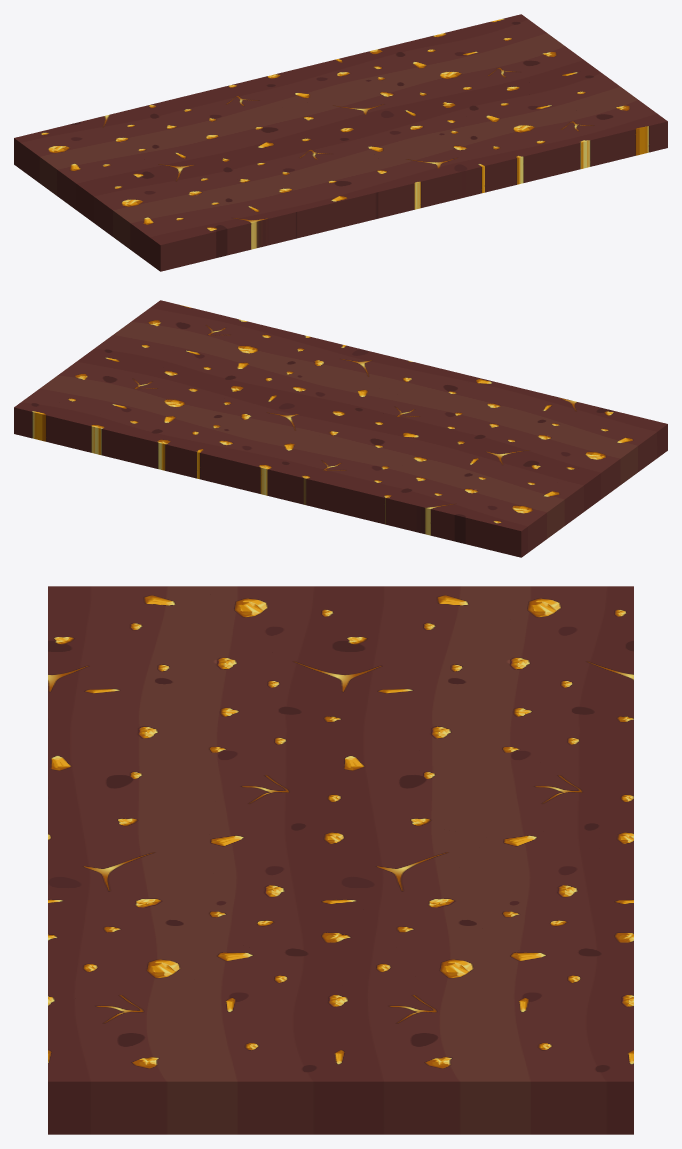
The model's file is Dirt.fbx.
3 views of the same model, one above another, from view 1: azimuth 30°, elevation 25°; view 2: azimuth 150°, elevation 25°; view 3: azimuth 270°, elevation 25° (orthographic). The views are drawn at different scales.
Visible parts, largest first — view 1: Plane.739, Plane.600, Plane.757, Plane.618, Plane.601, Plane.740, Plane.742, Plane.603, Plane.590, Plane.729, Plane.733, Plane.765 (+36 smaller); view 2: Plane.571, Plane.711, Plane.567, Plane.707, Plane.565, Plane.705, Plane.706, Plane.566, Plane.709, Plane.708, Plane.568, Plane.715 (+30 smaller); view 3: Plane.565, Plane.588, Plane.645, Plane.628, Plane.606, Plane.564, Plane.570, Plane.584, Plane.580, Plane.648, Plane.603, Plane.787 (+206 smaller).
Boxes of the visible parts, bbox=[...] form: Plane.739: bbox=[153, 234, 201, 271]; Plane.600: bbox=[408, 172, 455, 209]; Plane.757: bbox=[345, 186, 387, 224]; Plane.618: bbox=[599, 124, 641, 162]; Plane.601: bbox=[526, 144, 565, 181]; Plane.740: bbox=[273, 206, 311, 243]; Plane.742: bbox=[375, 174, 414, 216]; Plane.603: bbox=[629, 115, 667, 154]; Plane.590: bbox=[475, 156, 506, 194]; Plane.729: bbox=[221, 218, 252, 256]; Plane.733: bbox=[89, 190, 123, 232]; Plane.765: bbox=[74, 178, 112, 219]; Plane.571: bbox=[102, 422, 145, 464]; Plane.711: bbox=[356, 484, 399, 526]; Plane.567: bbox=[71, 409, 119, 455]; Plane.707: bbox=[325, 471, 373, 517]; Plane.565: bbox=[14, 395, 61, 440]; Plane.705: bbox=[267, 460, 315, 502]; Plane.706: bbox=[294, 465, 341, 509]; Plane.566: bbox=[41, 403, 87, 447]; Plane.709: bbox=[500, 517, 535, 557]; Plane.708: bbox=[418, 497, 458, 538]; Plane.568: bbox=[164, 435, 204, 476]; Plane.715: bbox=[393, 489, 428, 532]; Plane.565: bbox=[566, 1044, 633, 1134]; Plane.588: bbox=[376, 1055, 444, 1134]; Plane.645: bbox=[151, 1057, 226, 1134]; Plane.628: bbox=[226, 1053, 290, 1134]; Plane.606: bbox=[319, 1056, 400, 1134]; Plane.564: bbox=[103, 1057, 164, 1134]; Plane.570: bbox=[517, 1051, 570, 1134]; Plane.584: bbox=[473, 1051, 517, 1134]; Plane.580: bbox=[437, 1054, 494, 1134]; Plane.648: bbox=[284, 1044, 345, 1134]; Plane.603: bbox=[48, 1048, 83, 1134]; Plane.787: bbox=[267, 797, 347, 840].
Bounding box in the file's own units: 2 × 0.1 × 1.
1 material, 1 textured.
